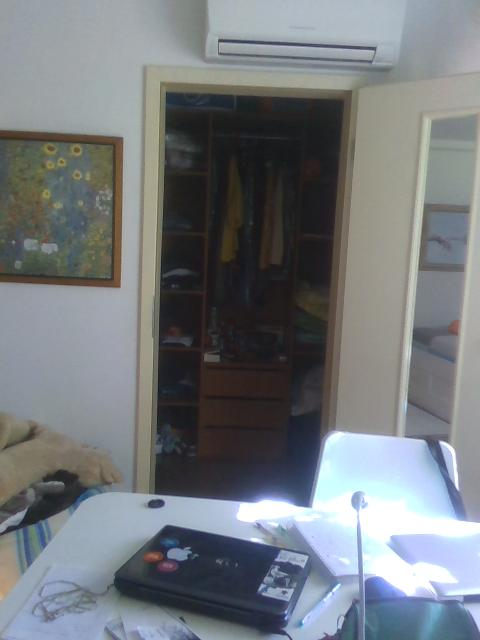open_door: (133, 65, 378, 547)
